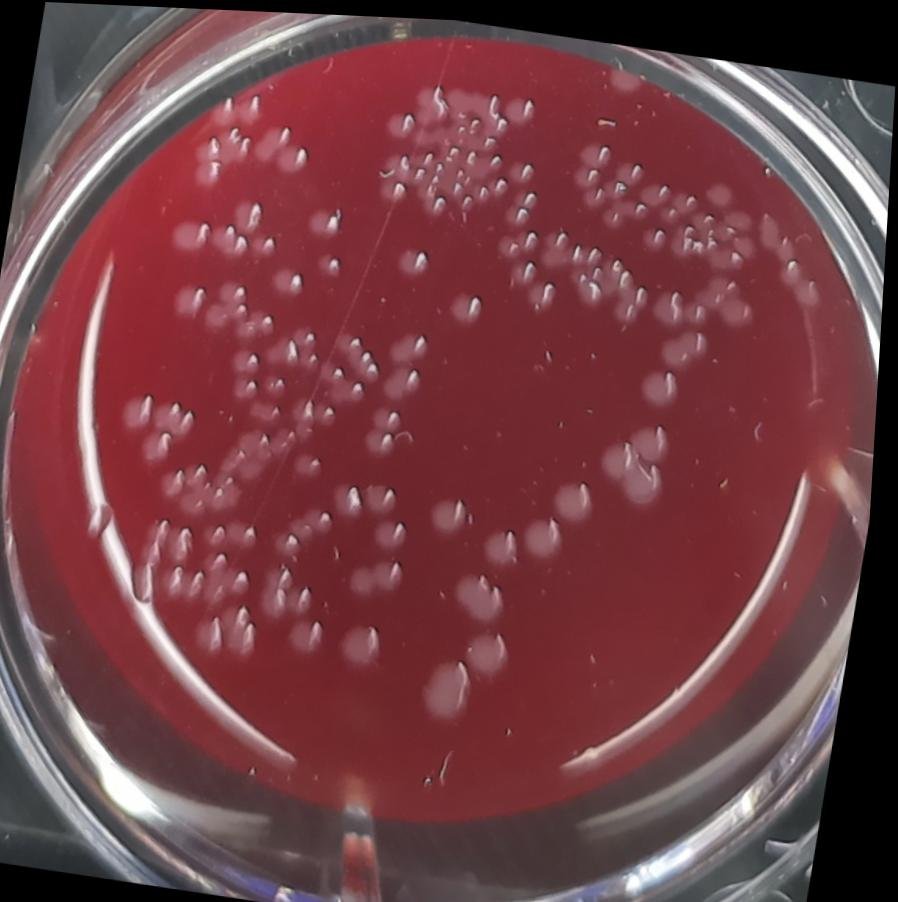pdpiscicida: (598, 413, 676, 500), (424, 649, 481, 723), (451, 565, 521, 621), (465, 622, 522, 678), (350, 549, 413, 598), (337, 614, 393, 667), (550, 470, 605, 523), (518, 507, 574, 559), (428, 488, 480, 536), (659, 318, 712, 365), (439, 79, 502, 116), (365, 403, 409, 455), (484, 520, 531, 568), (637, 360, 686, 406), (287, 613, 337, 656), (601, 192, 652, 232), (374, 510, 420, 554), (384, 361, 428, 403), (411, 76, 451, 121), (444, 285, 486, 323), (395, 239, 434, 278), (652, 281, 689, 320), (392, 326, 434, 360), (499, 89, 537, 125), (578, 133, 618, 166), (382, 105, 418, 138), (613, 152, 649, 184), (702, 172, 737, 202), (641, 174, 673, 203), (508, 154, 542, 181), (378, 172, 410, 200), (579, 179, 609, 208), (572, 157, 603, 184), (642, 220, 671, 248), (504, 199, 533, 223), (513, 181, 540, 205)
